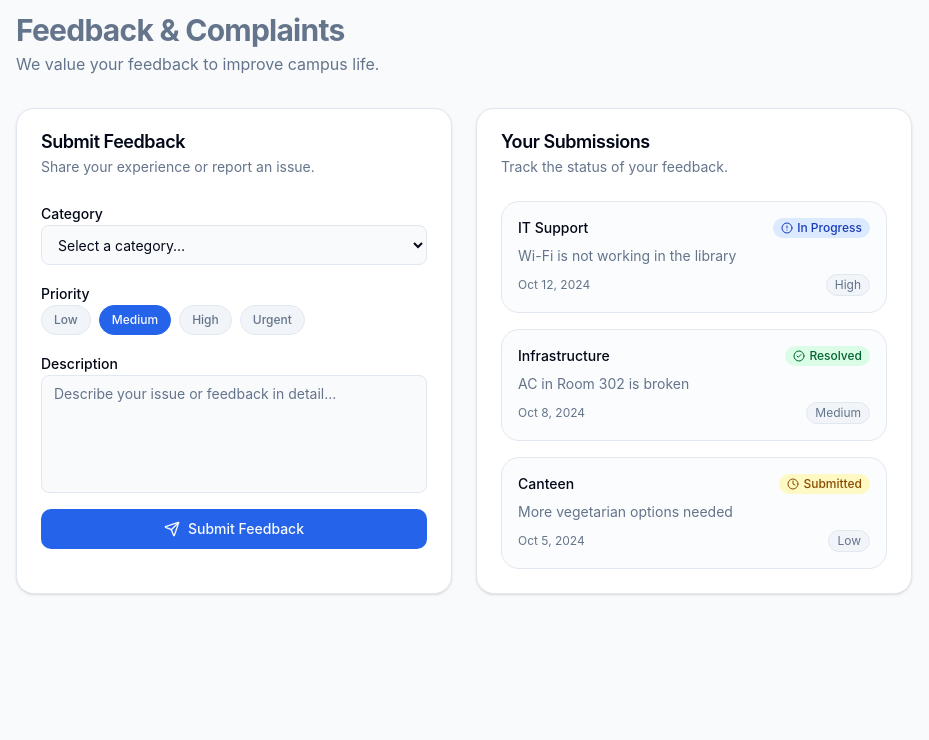
FeedbackPage › requires a category and description before accepting a complaint
Click the button "Submit Feedback" at [234, 529], box x1=41 y1=509 x2=427 y2=549
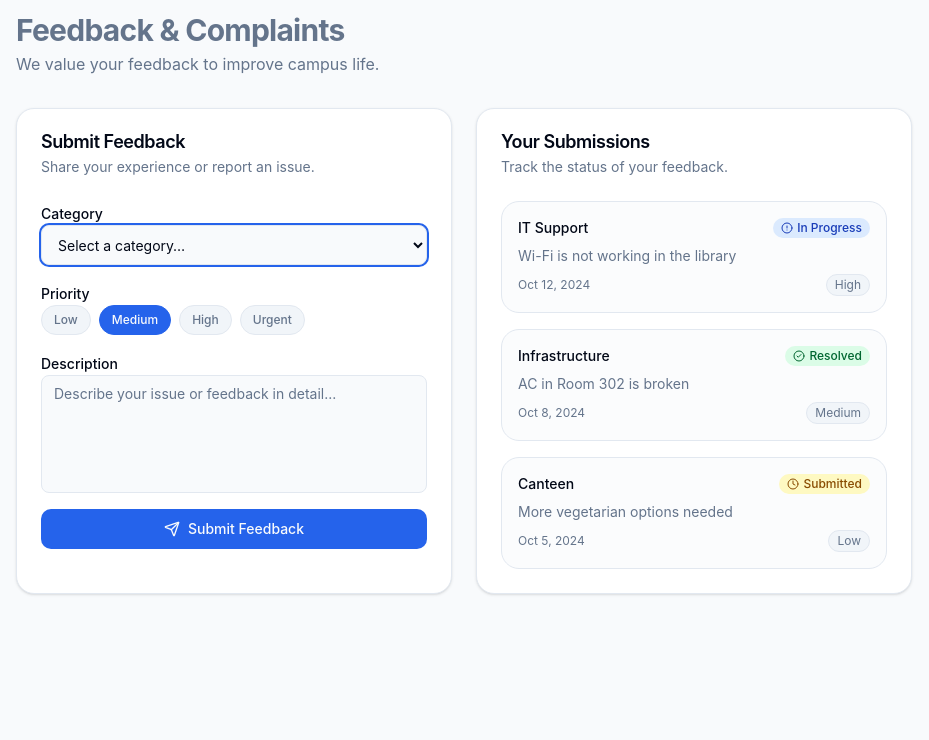
Expected: the text "Feedback submitted successfully!" is not shown
Select "Infrastructure" in the dropdown at [234, 245], box x1=41 y1=225 x2=427 y2=265
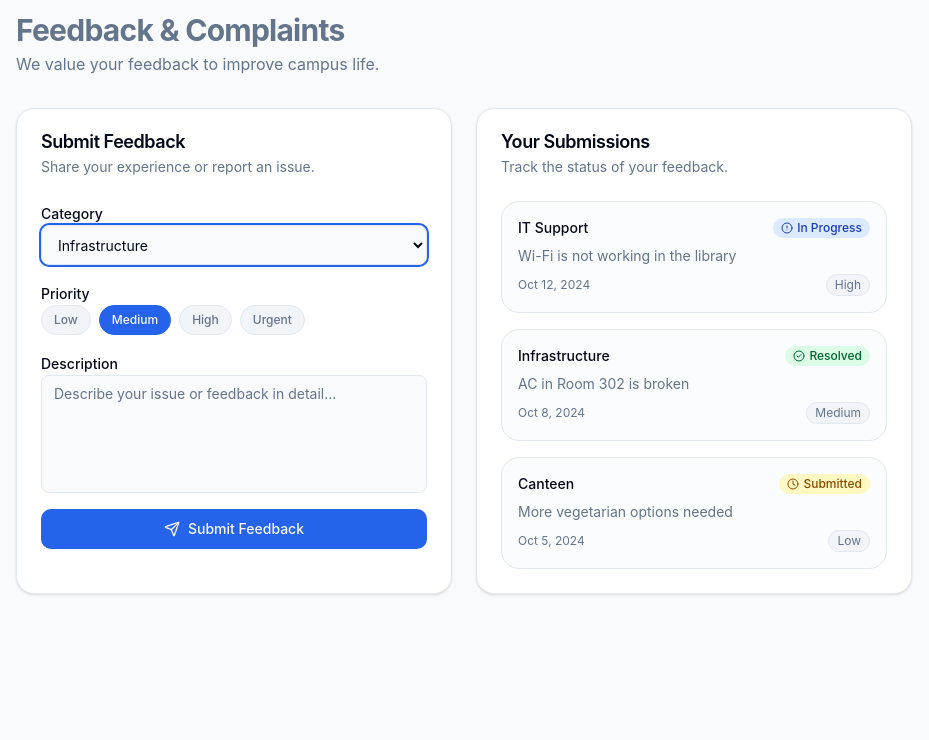
Type "A classroom projector needs repair." into the text box with placeholder "Describe your issue or feedback in detail..." at [234, 434], box x1=41 y1=375 x2=427 y2=493
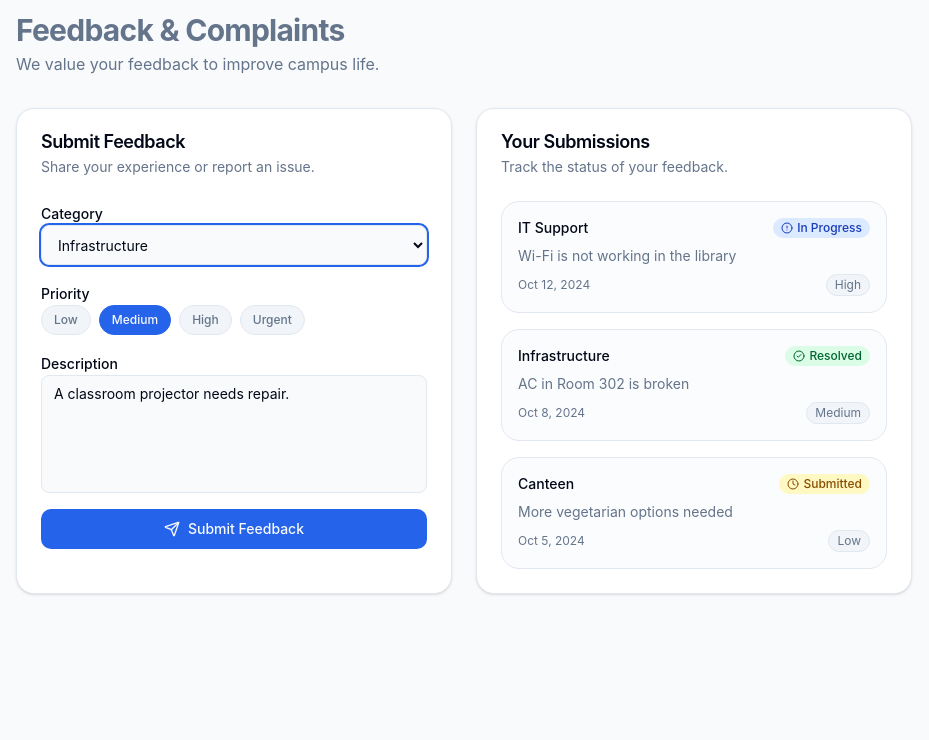
Click the button "Submit Feedback" at [234, 529], box x1=41 y1=509 x2=427 y2=549
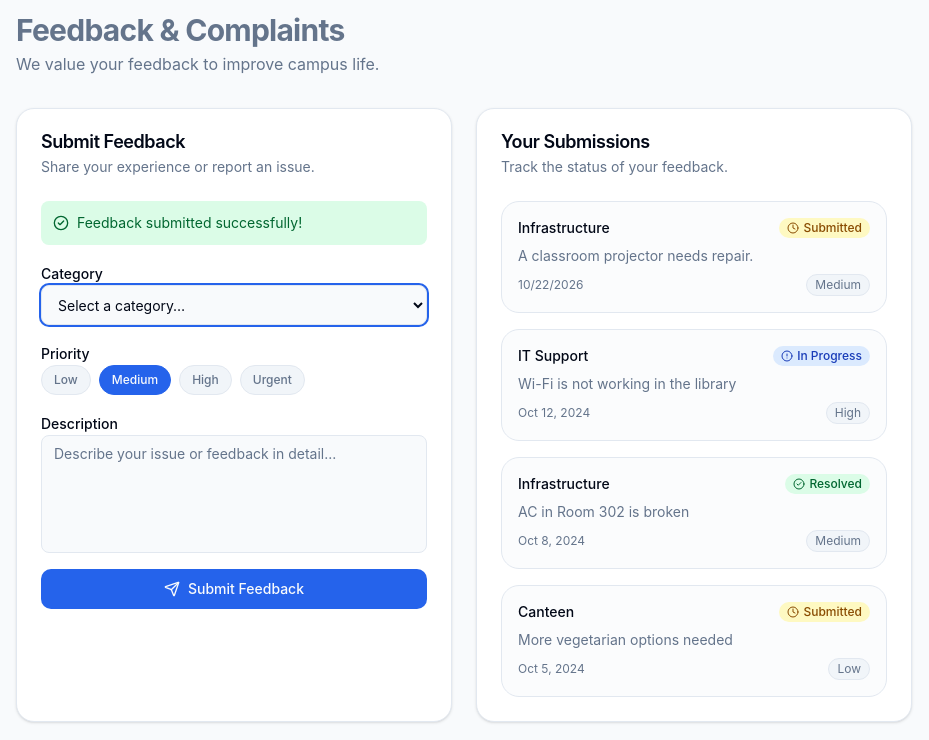
Expected: the text "Feedback submitted successfully!" is shown, x1=41 y1=201 x2=427 y2=245
